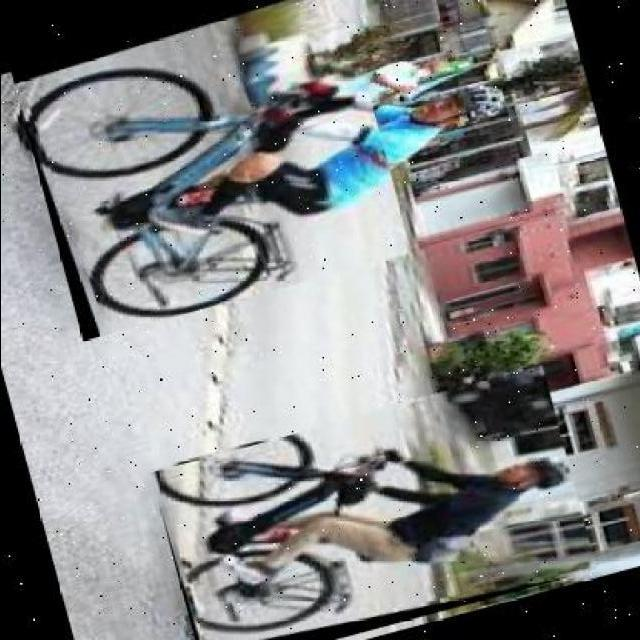bicycle: (9, 1, 413, 344), (149, 367, 598, 639)
